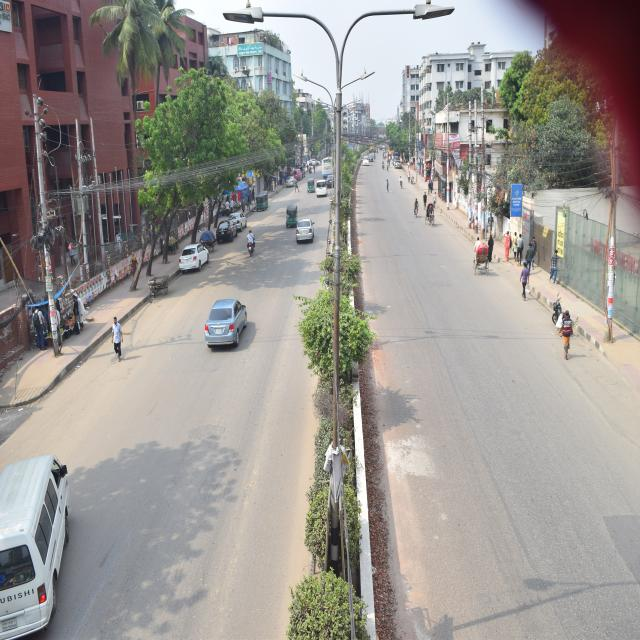car: (202, 279, 246, 366), (215, 209, 238, 254), (180, 244, 208, 275), (230, 198, 246, 239), (294, 220, 316, 248), (317, 179, 327, 205)
microbus: (5, 434, 75, 611)
motorbike: (548, 288, 573, 338), (239, 220, 263, 266), (412, 198, 420, 222)
